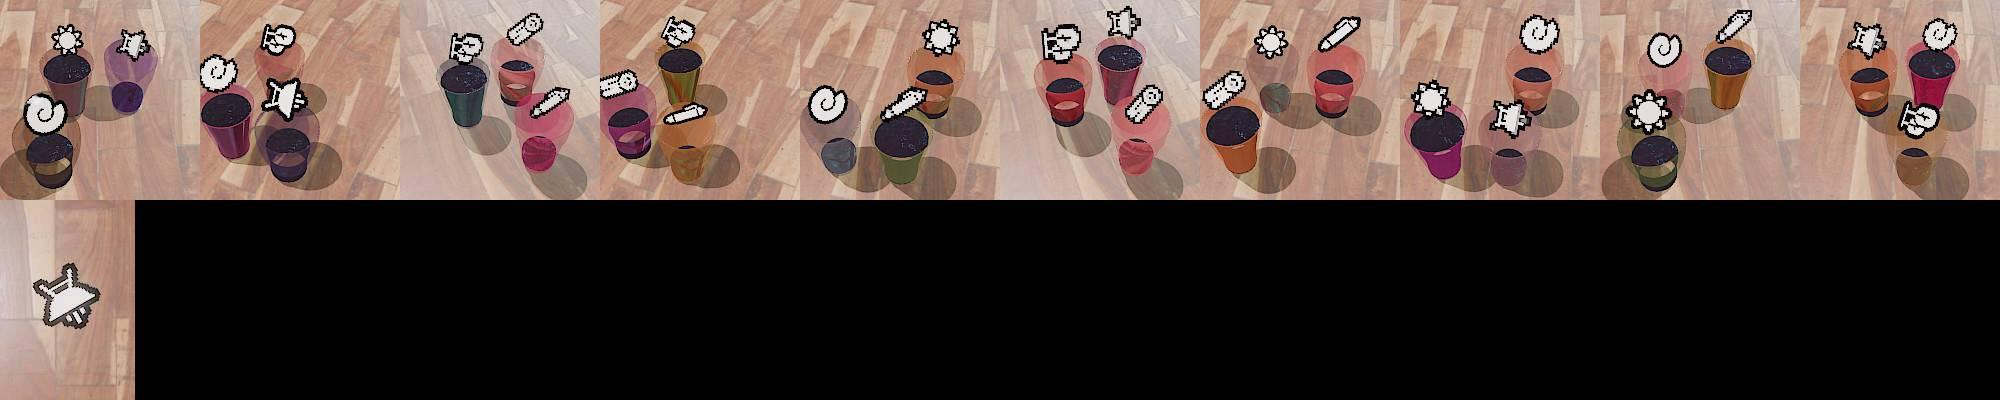icon: (32, 261, 102, 329), (1624, 88, 1673, 136), (261, 75, 309, 121), (23, 90, 69, 135), (1490, 96, 1532, 139), (1408, 78, 1453, 118), (879, 85, 927, 122), (1316, 15, 1361, 55), (1519, 14, 1561, 55), (1202, 70, 1245, 110), (199, 52, 240, 93), (1041, 22, 1082, 62), (1125, 83, 1165, 125), (807, 84, 848, 124), (1898, 99, 1939, 138), (1849, 20, 1889, 59), (1713, 8, 1754, 45), (922, 18, 960, 56), (1647, 31, 1684, 69), (528, 85, 570, 118), (1106, 5, 1143, 41), (505, 13, 543, 47), (1253, 25, 1290, 60), (1921, 18, 1958, 52), (598, 69, 639, 99), (260, 22, 296, 56), (449, 31, 485, 65), (661, 15, 696, 48), (662, 101, 709, 125), (51, 24, 85, 56), (117, 28, 151, 60)
